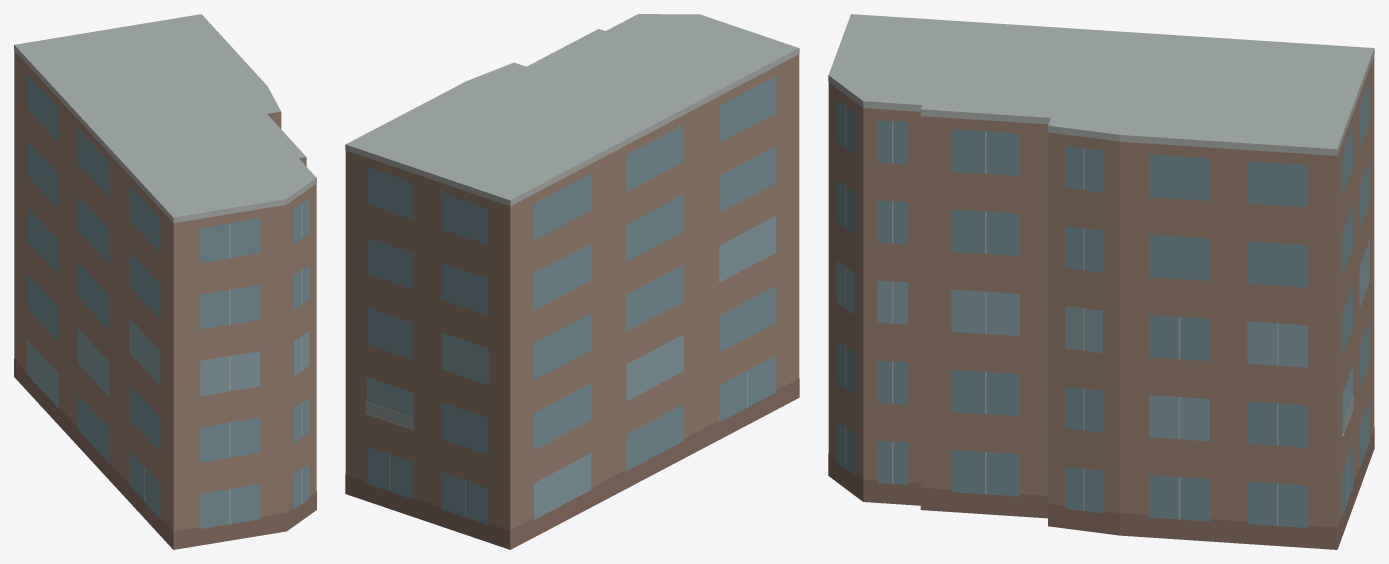
The model's file is survey-upis-32670591.glb.
The picture shows the model from 3 angles, left to right: view 1: azimuth 30°, elevation 25°; view 2: azimuth 150°, elevation 25°; view 3: azimuth 270°, elevation 25°; orthographic projection. The views are drawn at different scales.
Visible parts, largest first — view 1: survey-upis-32670591.tmp; view 2: survey-upis-32670591.tmp; view 3: survey-upis-32670591.tmp.
Part boxes in pixels (box(x1,y1,x2,y2)): survey-upis-32670591.tmp: box(14, 14, 316, 549); survey-upis-32670591.tmp: box(345, 14, 799, 549); survey-upis-32670591.tmp: box(828, 14, 1374, 549).
Bounding box in the file's own units: 10.51 × 14.5 × 17.92.
